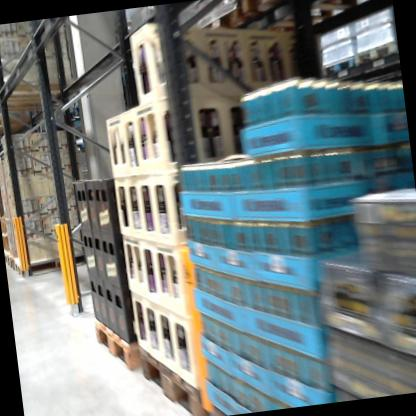pallet: (124, 327, 203, 416), (239, 0, 392, 37), (90, 304, 146, 392), (11, 231, 108, 280), (0, 66, 74, 110), (0, 85, 53, 119), (320, 46, 361, 89), (197, 7, 250, 40), (351, 40, 398, 73), (5, 247, 15, 273)
